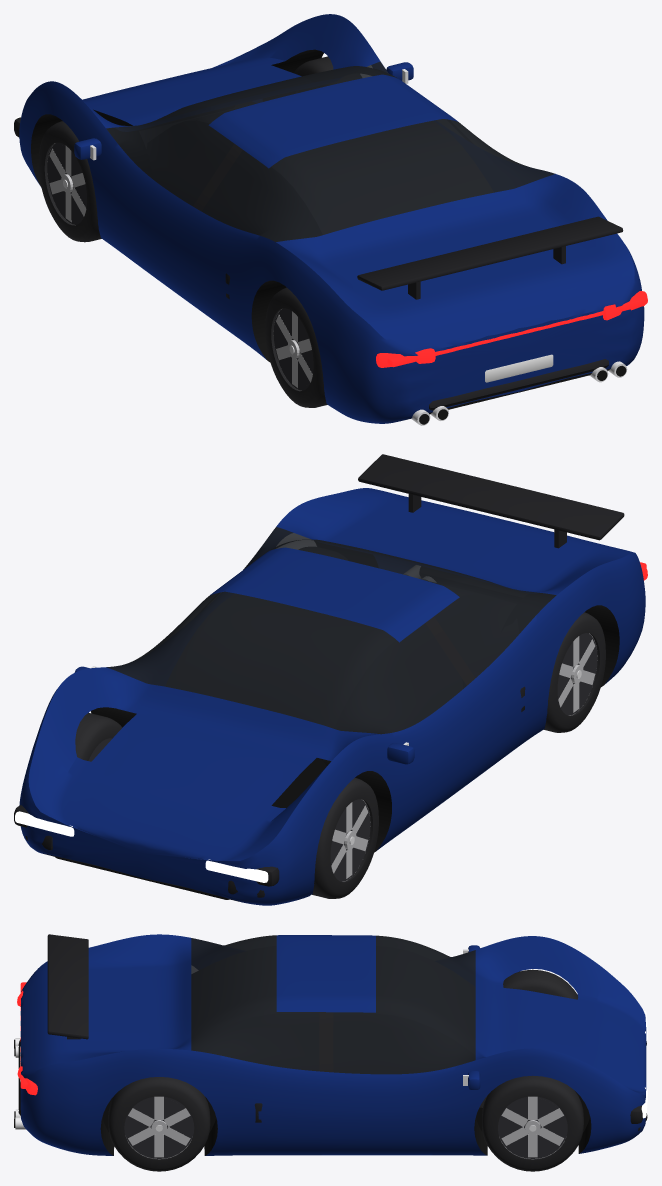
Rendered from bugatti_chiron.glb.
3 renders of one model, top to bottom at view 1: azimuth 30°, elevation 25°; view 2: azimuth 150°, elevation 25°; view 3: azimuth 270°, elevation 25°, orthographic. The views are drawn at different scales.
Visible parts, largest first — view 1: Body, Wheel_FL, Wheel_RL; view 2: Body, Wheel_FL, Wheel_RL, Wheel_FR; view 3: Body, Wheel_FR, Wheel_RR, Wheel_FL.
Part boxes in pixels (box(x1,y1,x2,y2)): Body: box(14, 14, 647, 425); Wheel_FL: box(38, 121, 101, 242); Wheel_RL: box(265, 287, 327, 407); Body: box(14, 454, 647, 905); Wheel_FL: box(312, 778, 378, 898); Wheel_RL: box(543, 612, 605, 732); Wheel_FR: box(75, 712, 122, 761); Body: box(14, 934, 647, 1155); Wheel_FR: box(482, 1075, 583, 1171); Wheel_RR: box(108, 1077, 210, 1171); Wheel_FL: box(503, 969, 578, 999).
Size of the model in its own units: 2.32 by 1.21 by 4.6.
